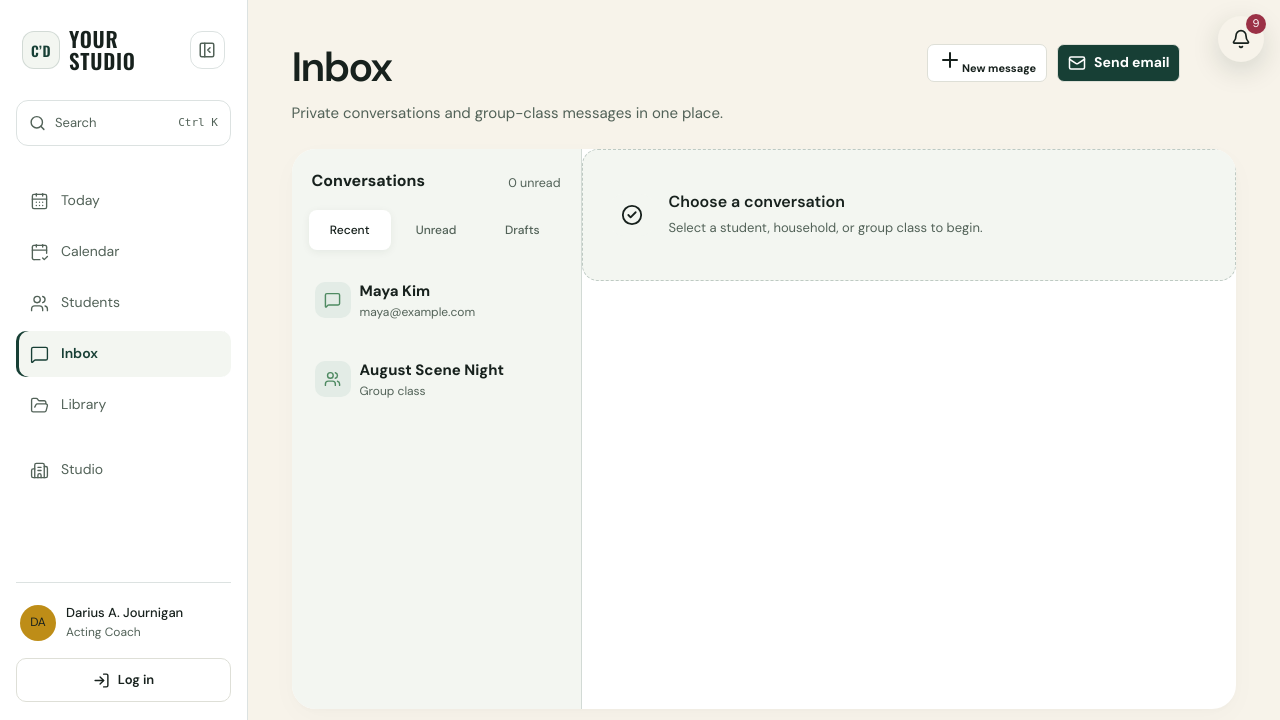
it: unified inbox › closes the email dialog after queueing and offers an undo window
The image size is (1280, 720).
Click the button "Send email": (1119, 62) x1=1057 y1=44 x2=1180 y2=82
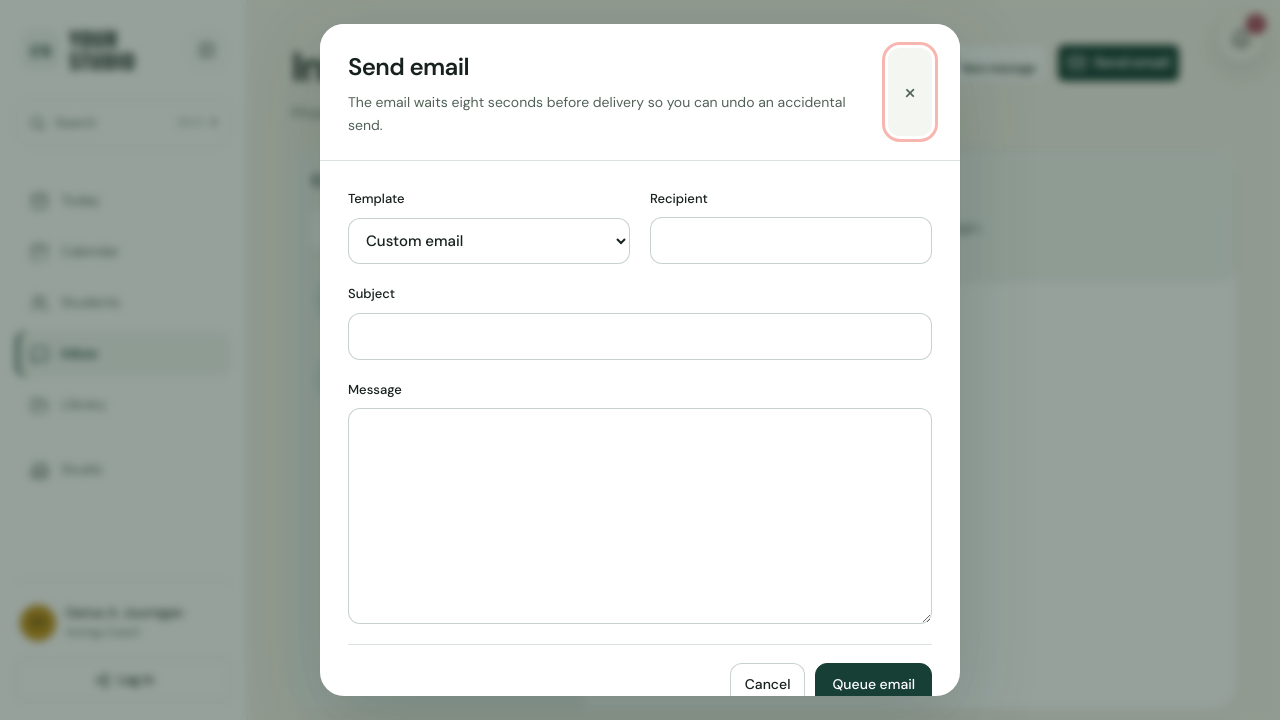
In the field labelled "Recipient": (791, 241) x1=650 y1=217 x2=932 y2=264, type "maya@example.com"
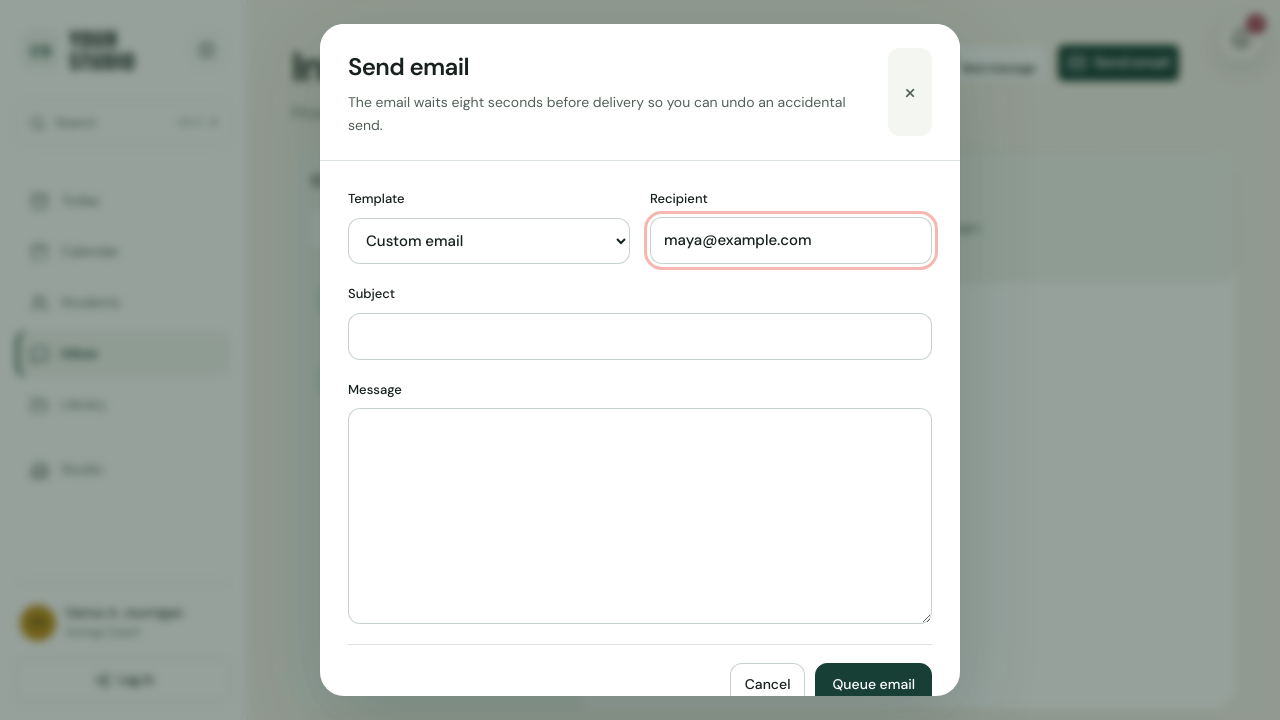
In the field labelled "Subject": (640, 336) x1=348 y1=312 x2=932 y2=360, type "Quick update"
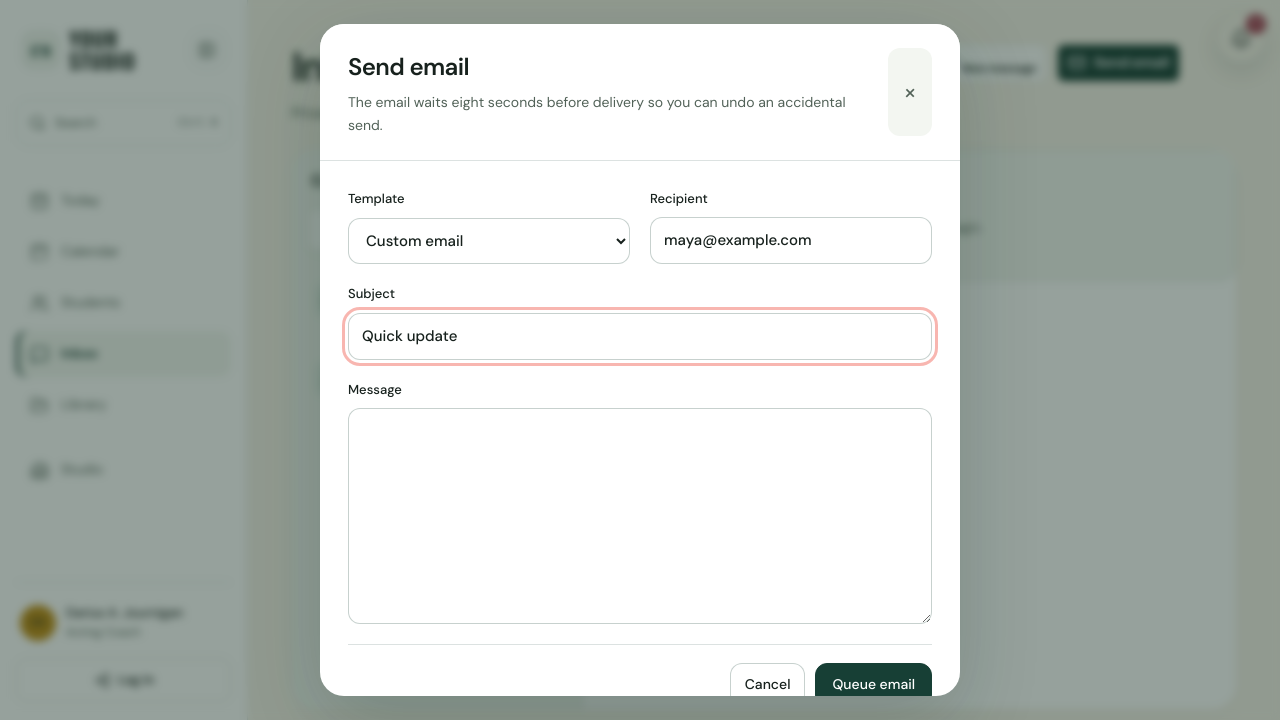
In the text box labelled "Message": (640, 516) x1=348 y1=408 x2=932 y2=624, type "Your materials are ready."
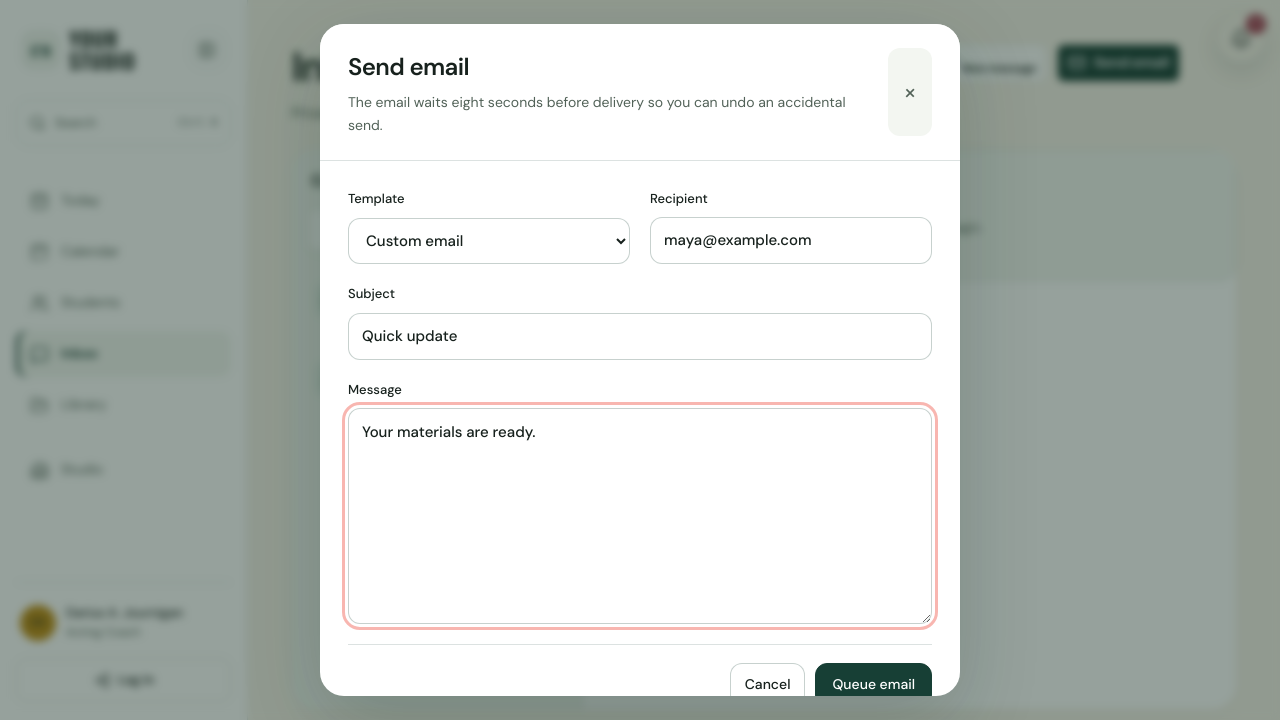
Click the button "Queue email": (874, 685) x1=816 y1=663 x2=932 y2=707
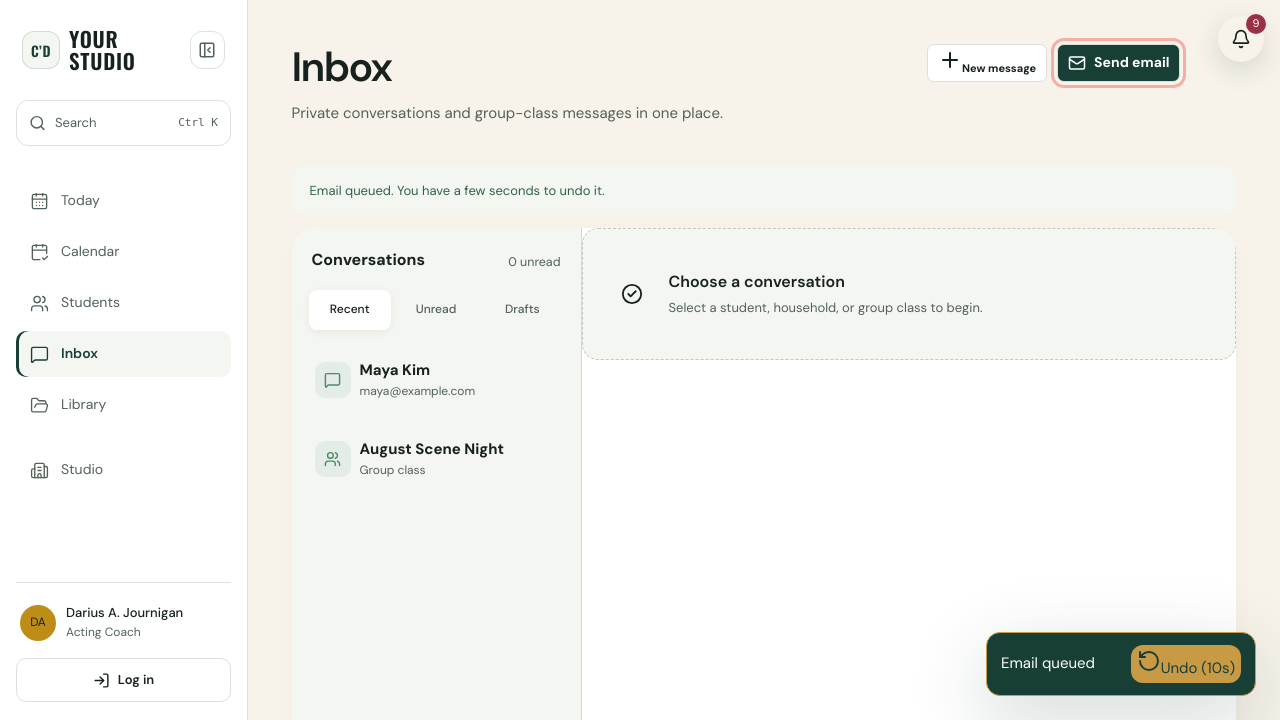
expect the text "Email queued" is shown: met, box x1=1001 y1=652 x2=1095 y2=676
Click the button "Undo (10s)": (1186, 664) x1=1131 y1=645 x2=1241 y2=683
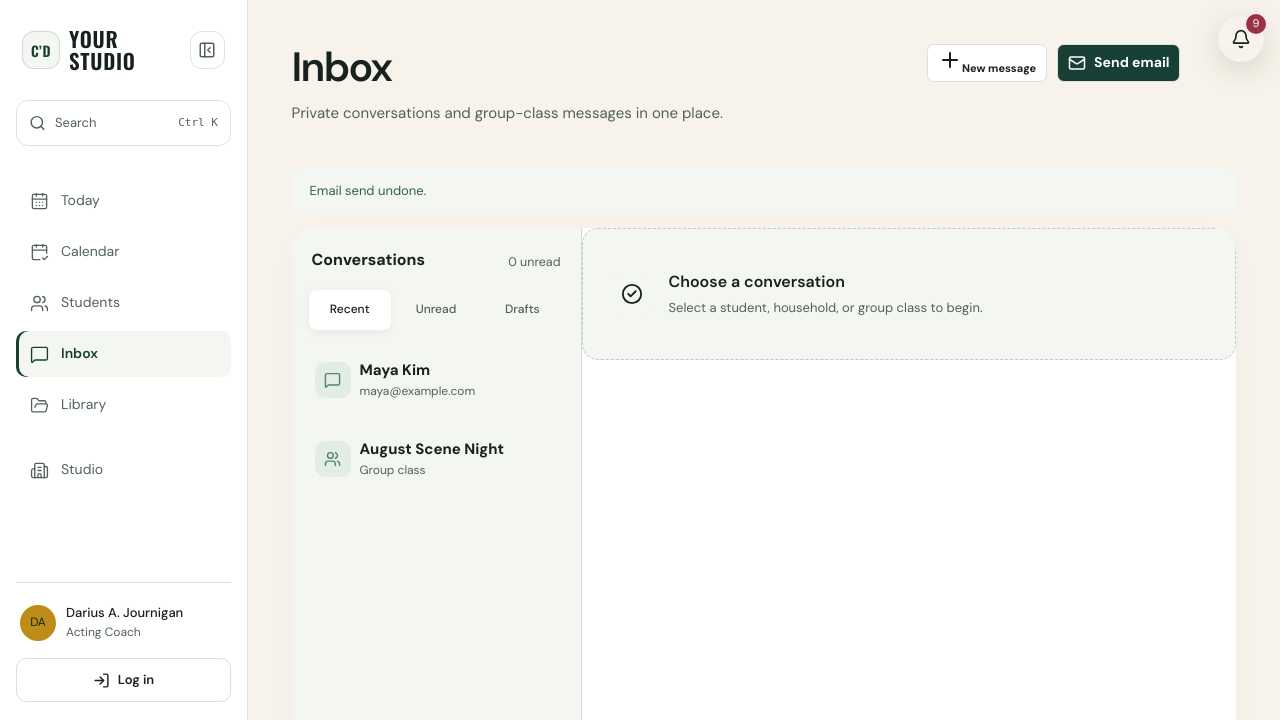
expect the text "Email send undone." is shown: met, box x1=292 y1=166 x2=1236 y2=215
